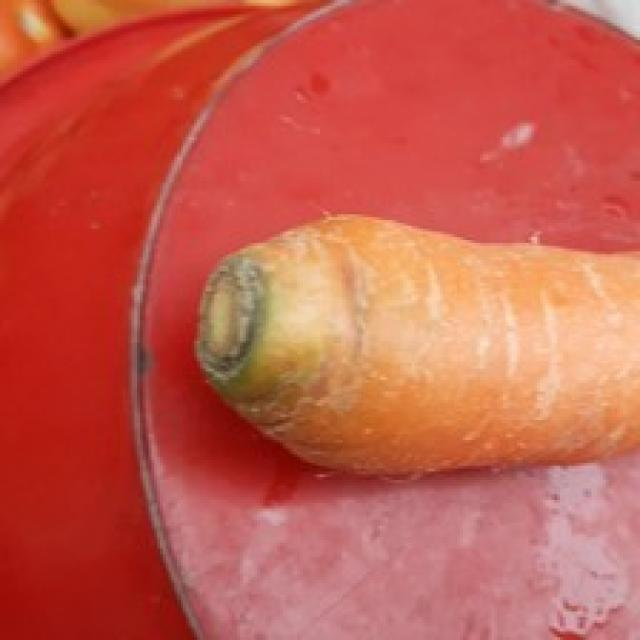Fresh_Carrot: (212, 220, 640, 475)
